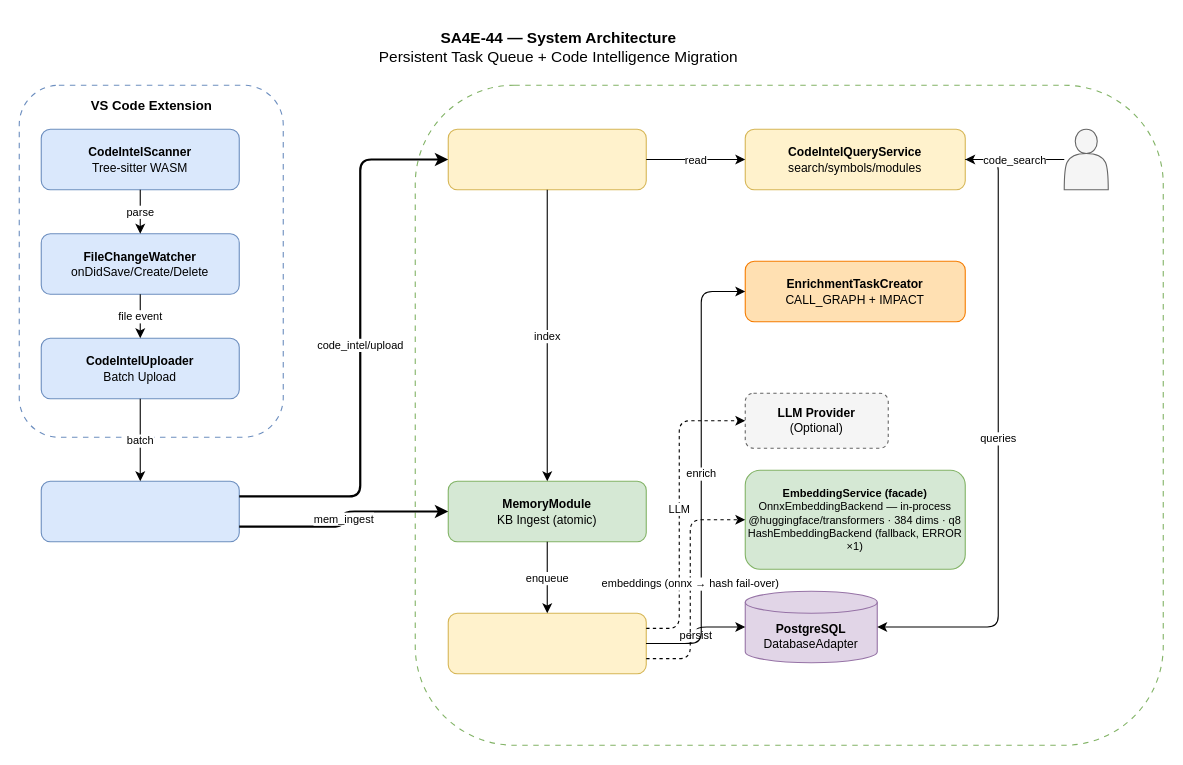
The diagram is 1183 pixels wide and 765 high, and some of its shapes have lost their labels. The shapes that lost their labels are listed below. From the top down, each one's box as (x1, y1, x2, y2) in pixels, then its label:
(447, 128, 646, 190): CodeIntelReceiver Validate + UPSERT
(1063, 128, 1108, 190): Agent
(414, 84, 1163, 745): Backend Server (Node.js / Hono)
(40, 480, 239, 542): RemoteBackendClient MCP StreamableHTTP
(447, 612, 646, 674): Task Queue TaskWorker + Monitor
